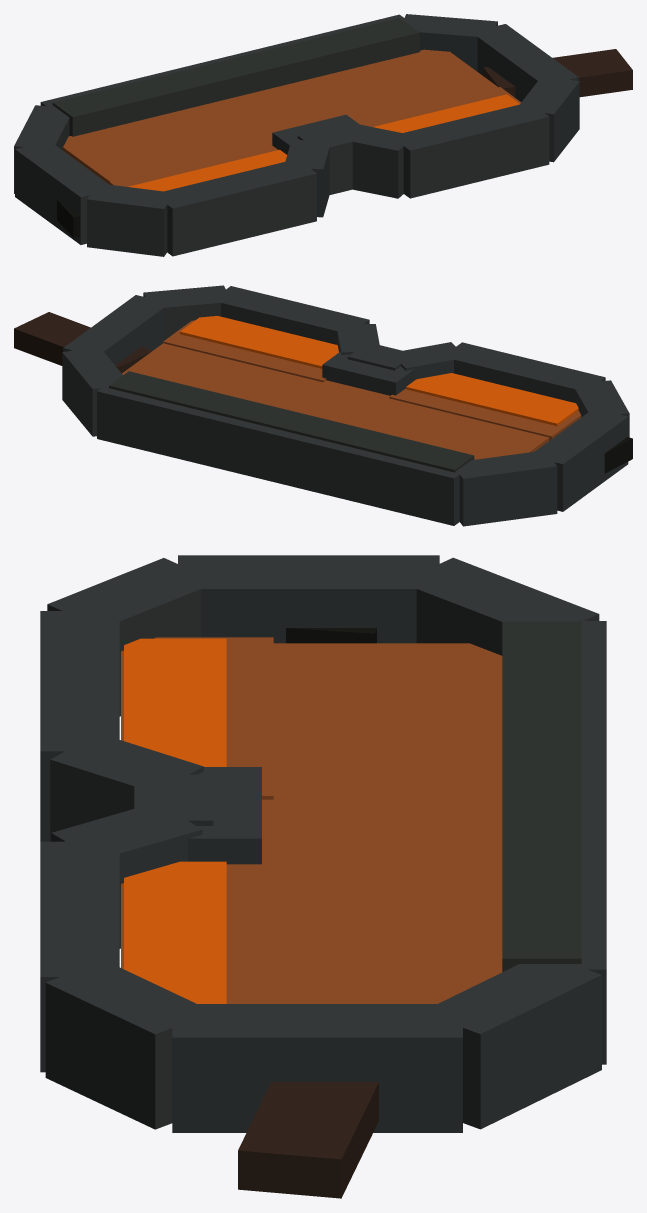
Rendered from CMU3DAU14GogglesM1A1OrangeBallisticWorldCloud.glb.
3 views of the same model, one above another, from view 1: azimuth 30°, elevation 25°; view 2: azimuth 150°, elevation 25°; view 3: azimuth 270°, elevation 25° (orthographic). The views are drawn at different scales.
Parts seen in each view (by area): view 1: wide joined upper amber lens, source upper protective brow, continuous angular goggle frame 08, continuous angular goggle frame 04, continuous angular goggle frame 09, continuous angular goggle frame 10, continuous angular goggle frame 02, continuous angular goggle frame 05, right outward strap, continuous angular goggle frame 03, continuous angular goggle frame 01, continuous angular goggle frame 06 (+9 smaller); view 2: continuous angular goggle frame 00, wide joined upper amber lens, source upper protective brow, continuous angular goggle frame 11, continuous angular goggle frame 10, continuous angular goggle frame 08, continuous angular goggle frame 04, left source lower amber shade, right source lower amber shade, continuous angular goggle frame 02, continuous angular goggle frame 01, right outward strap (+9 smaller); view 3: wide joined upper amber lens, continuous angular goggle frame 02, source upper protective brow, continuous angular goggle frame 01, continuous angular goggle frame 10, continuous angular goggle frame 03, right outward strap, right source lower amber shade, left source lower amber shade, continuous angular goggle frame 08, continuous angular goggle frame 04, continuous angular goggle frame 00 (+9 smaller).
Boxes of the visible parts, x1,y1,x2,y2 form: wide joined upper amber lens: [63, 49, 497, 184]; source upper protective brow: [52, 18, 419, 136]; continuous angular goggle frame 08: [153, 159, 316, 256]; continuous angular goggle frame 04: [391, 104, 549, 198]; continuous angular goggle frame 09: [87, 183, 174, 256]; continuous angular goggle frame 10: [15, 141, 113, 244]; continuous angular goggle frame 02: [471, 24, 578, 101]; continuous angular goggle frame 05: [341, 124, 412, 198]; right outward strap: [483, 49, 632, 97]; continuous angular goggle frame 03: [516, 76, 579, 162]; continuous angular goggle frame 01: [404, 14, 497, 71]; continuous angular goggle frame 06: [297, 124, 354, 194]; continuous angular goggle frame 00: [97, 377, 472, 525]; wide joined upper amber lens: [122, 343, 549, 459]; source upper protective brow: [109, 371, 474, 472]; continuous angular goggle frame 11: [457, 450, 557, 526]; continuous angular goggle frame 10: [529, 408, 628, 511]; continuous angular goggle frame 08: [451, 342, 605, 402]; continuous angular goggle frame 04: [213, 286, 369, 344]; left source lower amber shade: [406, 373, 578, 425]; right source lower amber shade: [180, 316, 338, 368]; continuous angular goggle frame 02: [63, 295, 169, 365]; continuous angular goggle frame 01: [62, 347, 122, 436]; right outward strap: [14, 312, 152, 373]; wide joined upper amber lens: [262, 643, 502, 1003]; continuous angular goggle frame 02: [172, 1004, 462, 1132]; source upper protective brow: [502, 621, 581, 971]; continuous angular goggle frame 01: [421, 964, 601, 1129]; continuous angular goggle frame 10: [178, 555, 439, 643]; continuous angular goggle frame 03: [45, 960, 200, 1129]; right outward strap: [238, 1082, 378, 1198]; right source lower amber shade: [124, 861, 226, 1003]; left source lower amber shade: [124, 638, 226, 766]; continuous angular goggle frame 08: [40, 611, 119, 841]; continuous angular goggle frame 04: [40, 841, 119, 1072]; continuous angular goggle frame 00: [527, 621, 606, 1064].
Size of the model in its own units: 0.7131 by 0.059 by 0.3016.
